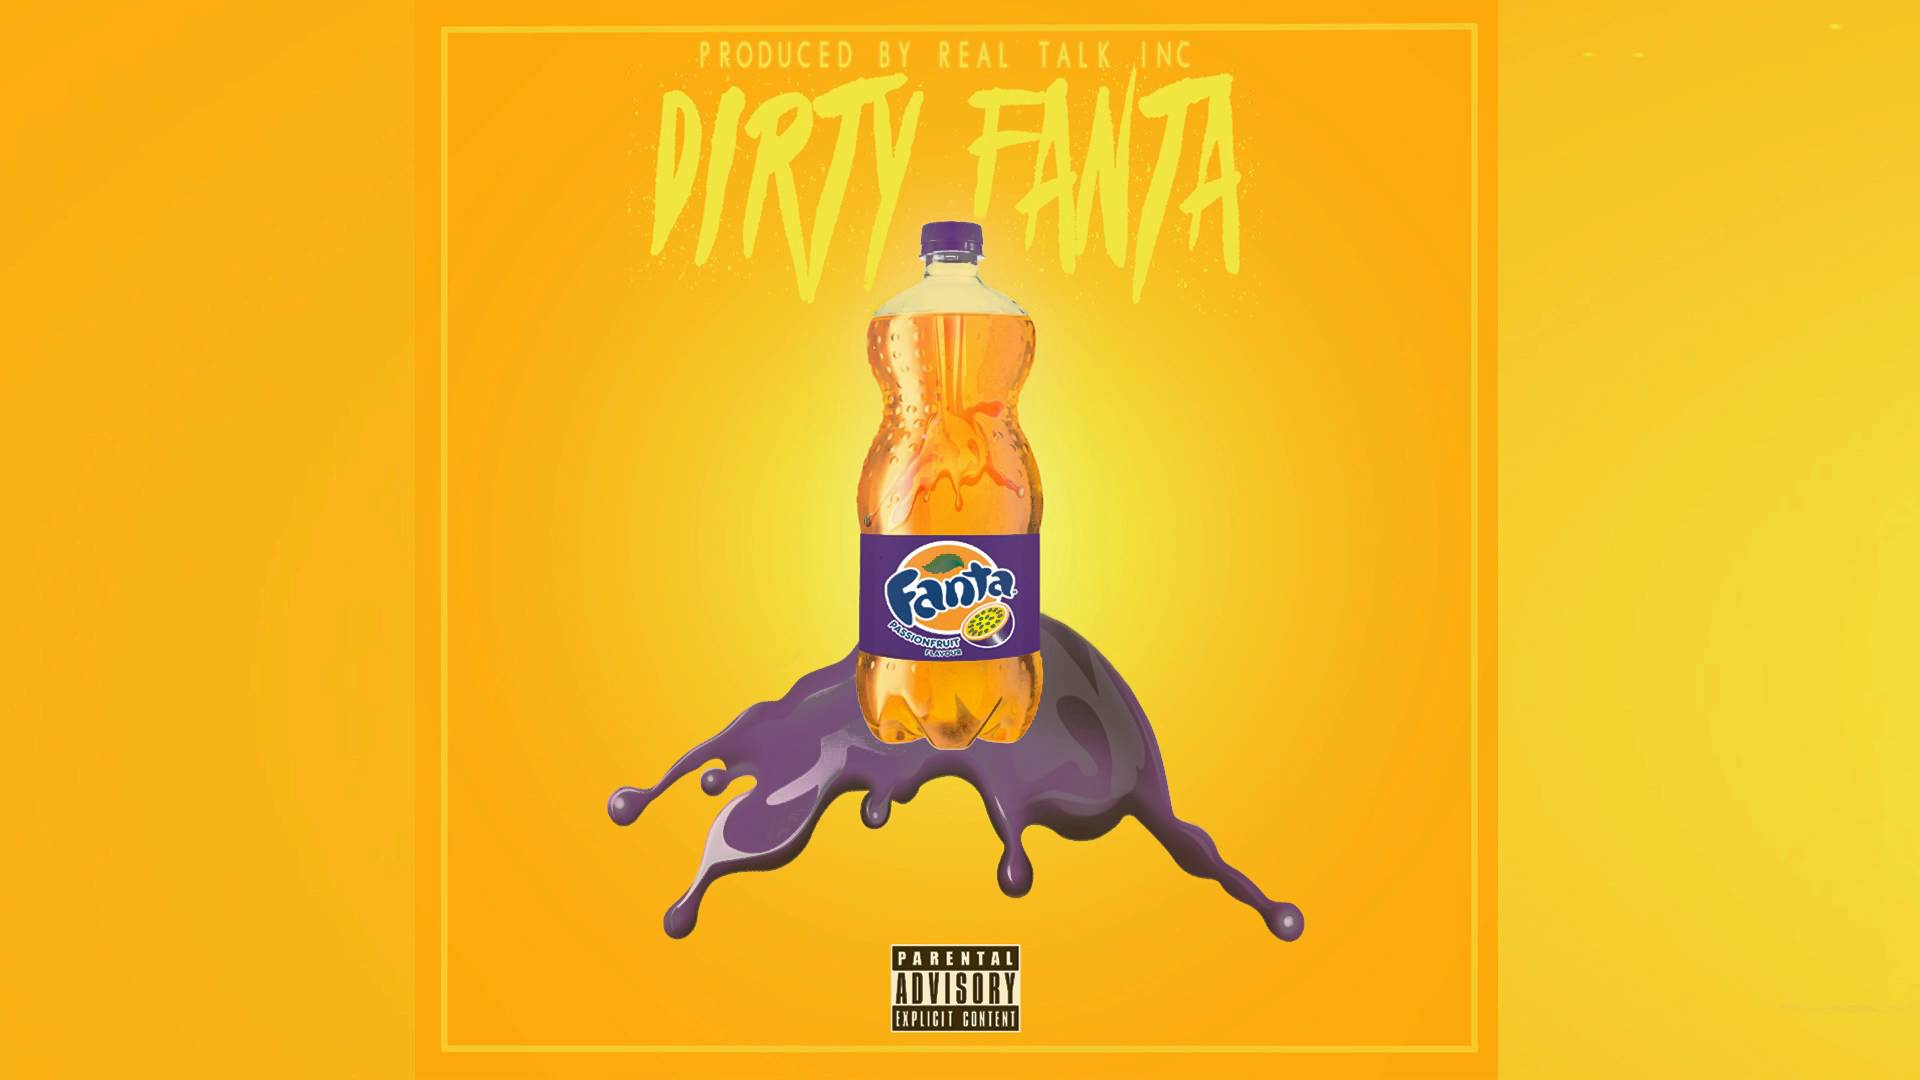fanta: (864, 247, 1036, 736)
